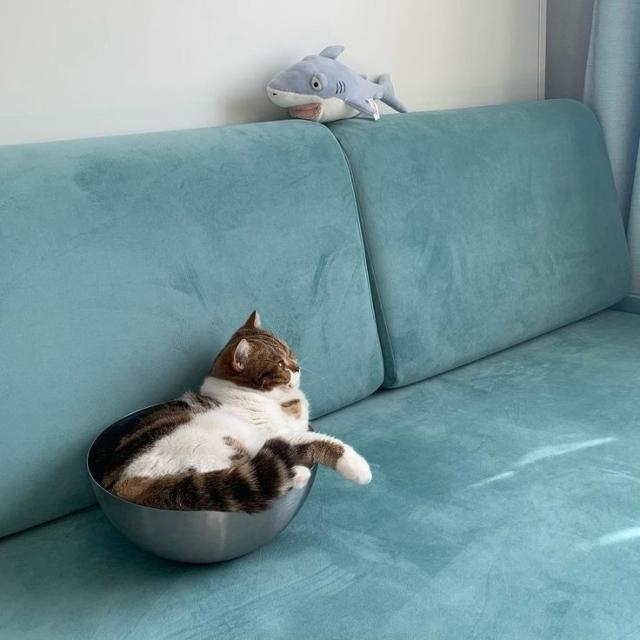cat: (85, 313, 372, 514)
